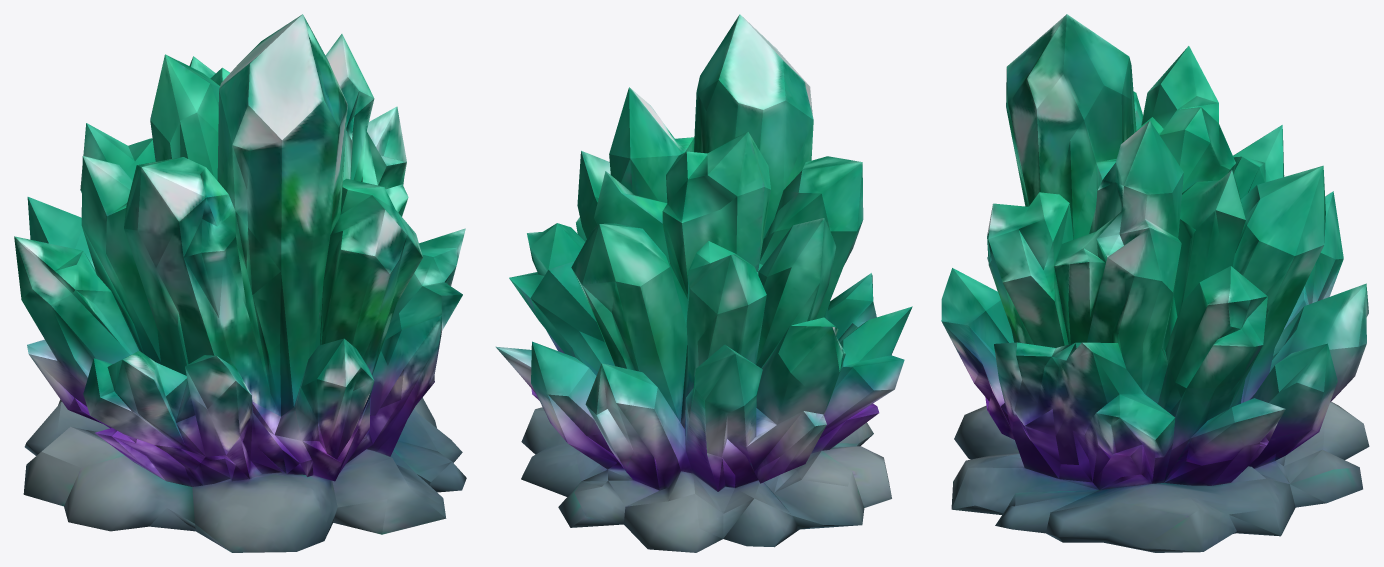
The model's file is auroraCrystal.glb.
3 views of the same model, side by side, from view 1: azimuth 30°, elevation 25°; view 2: azimuth 150°, elevation 25°; view 3: azimuth 270°, elevation 25° (orthographic). The views are drawn at different scales.
Visible parts, largest first — view 1: model; view 2: model; view 3: model.
Boxes of the visible parts, x1=… form: model: x1=14, y1=14, x2=466, y2=552; model: x1=495, y1=14, x2=912, y2=552; model: x1=941, y1=14, x2=1369, y2=552.
Size of the model in its own units: 1.62 by 1.91 by 1.62.
1 material, 1 textured.
